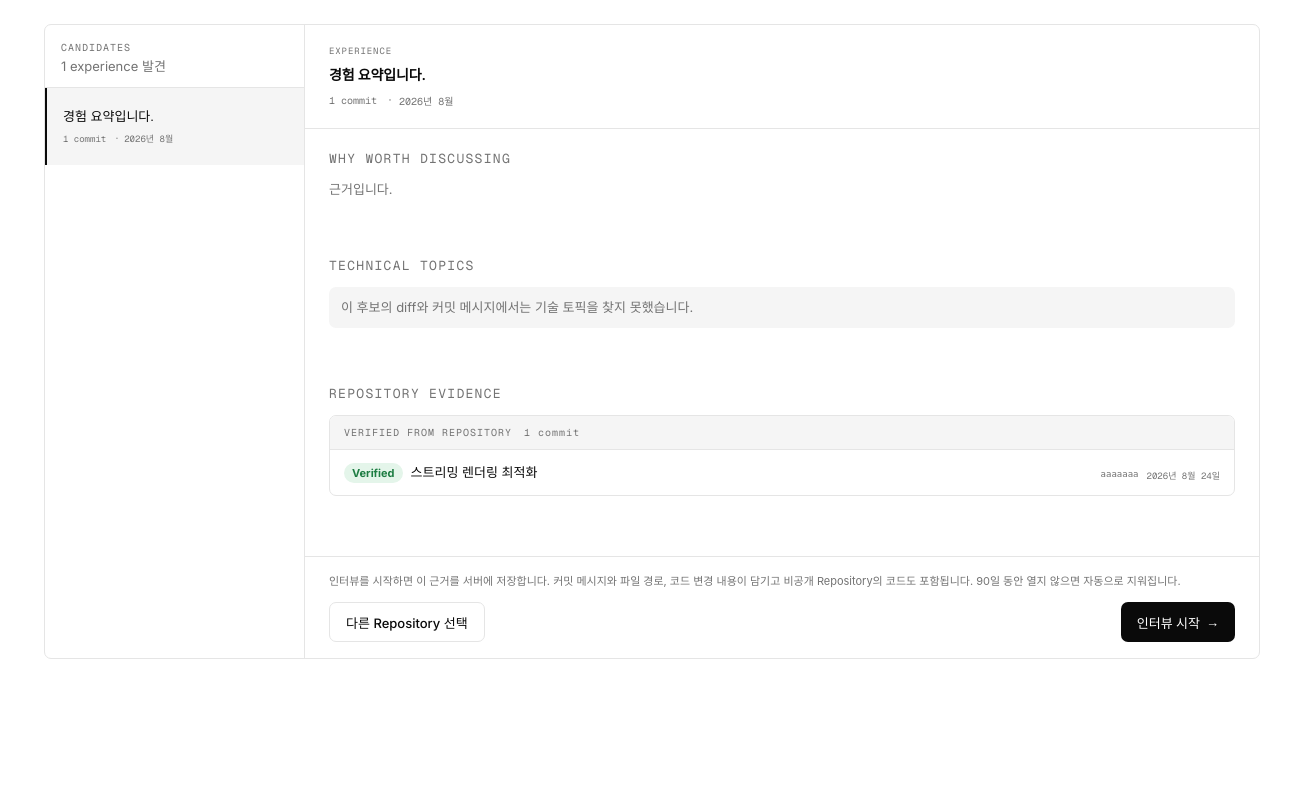
Test: RepositoryAnalysisView 후보 생성 상태 › 경험 확정 시점의 저장 › 저장에 실패해도 인터뷰 화면은 그대로 열린다
Click the button "인터뷰 시작 →": (1178, 622) [1121,602,1235,642]
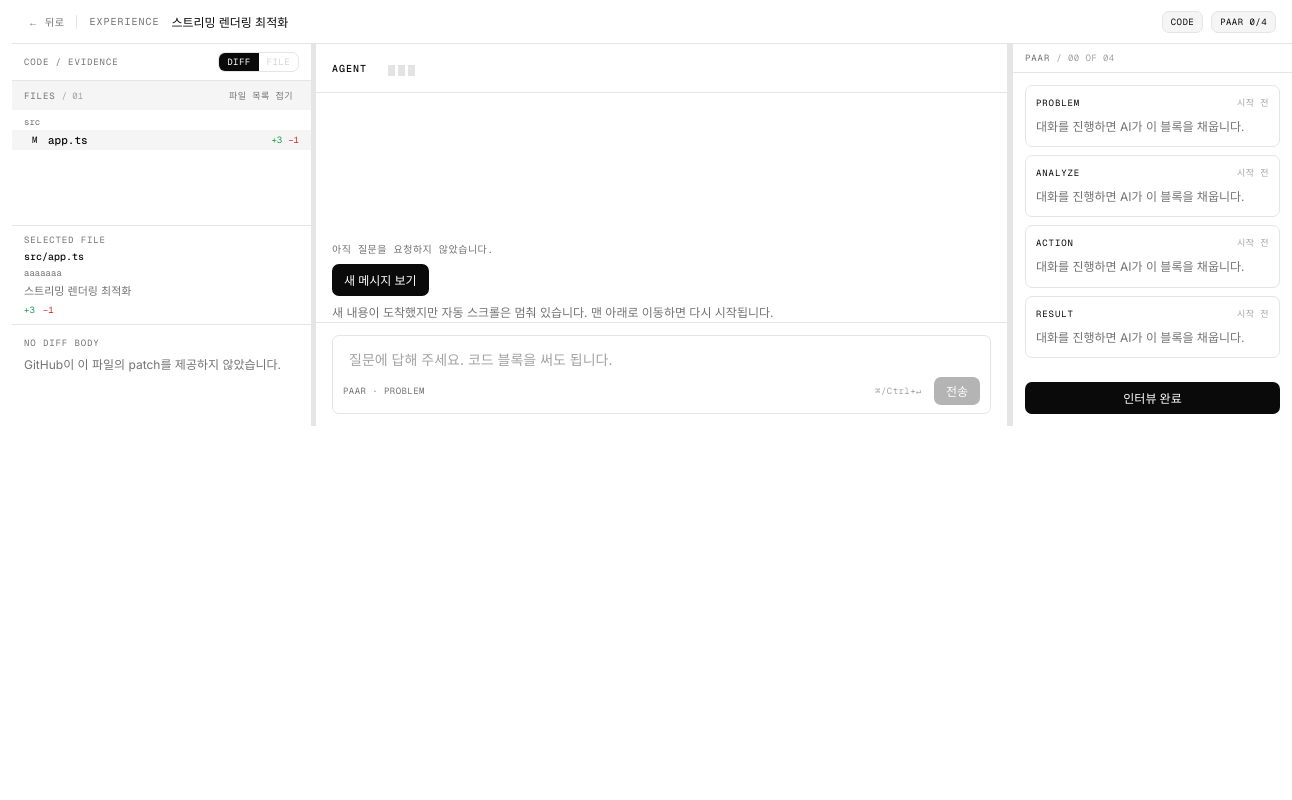
Expected: the heading "스트리밍 렌더링 최적화" is shown, [171,13,288,30]
